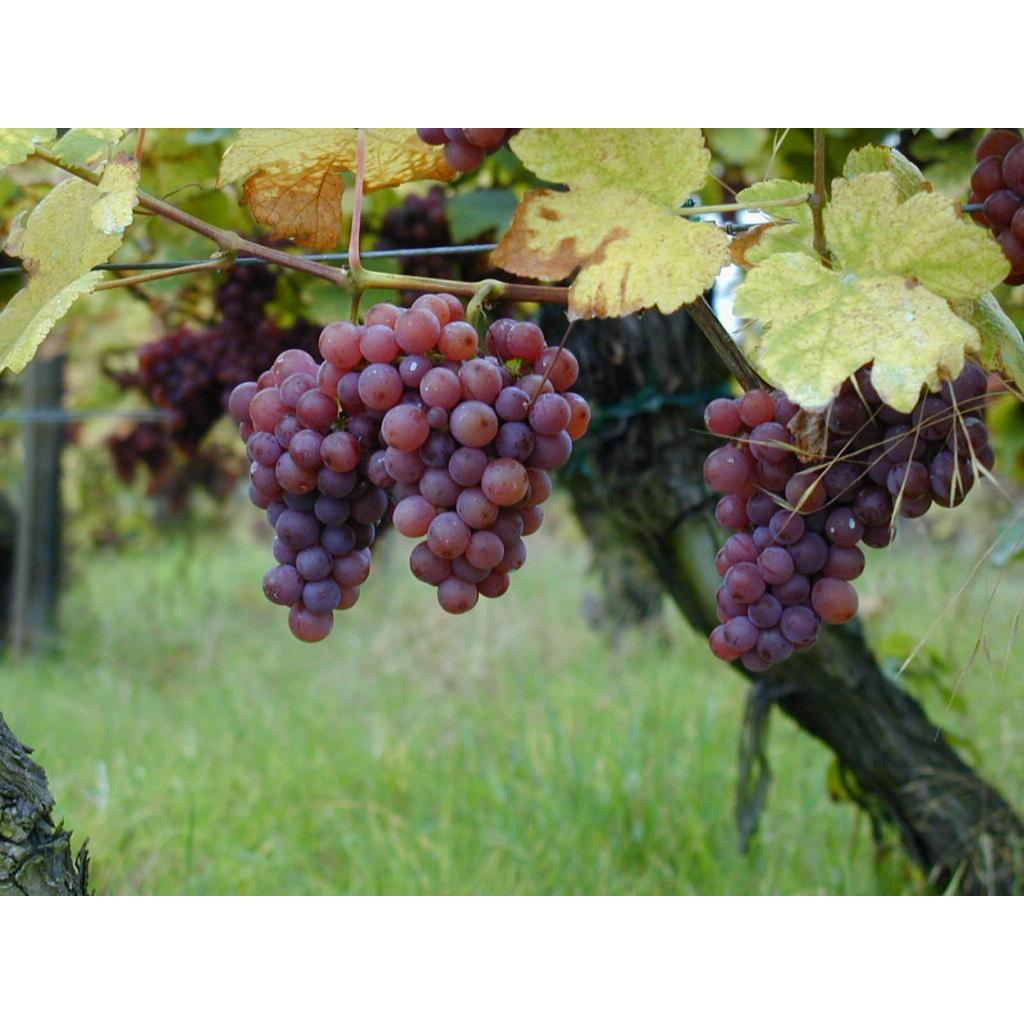grape: (228, 292, 589, 641), (703, 361, 993, 671), (106, 265, 319, 516), (970, 129, 1023, 284), (417, 128, 515, 172)
